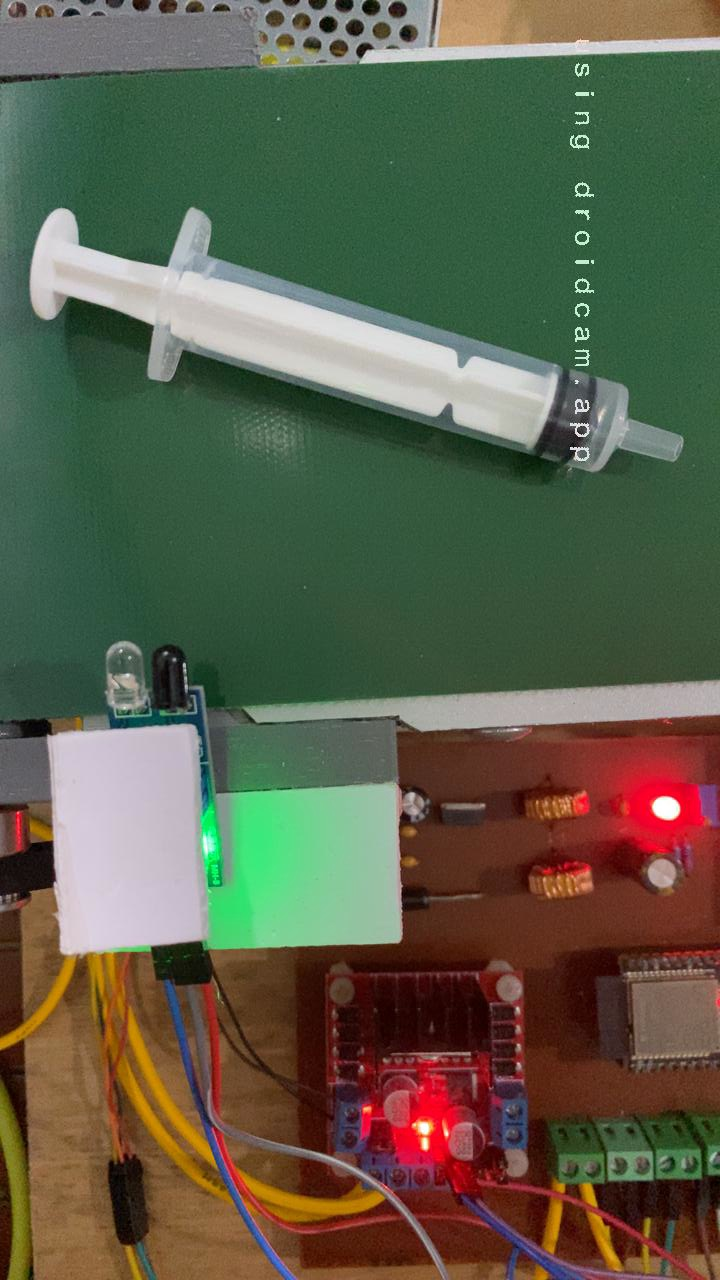syringe: (22, 201, 692, 481)
